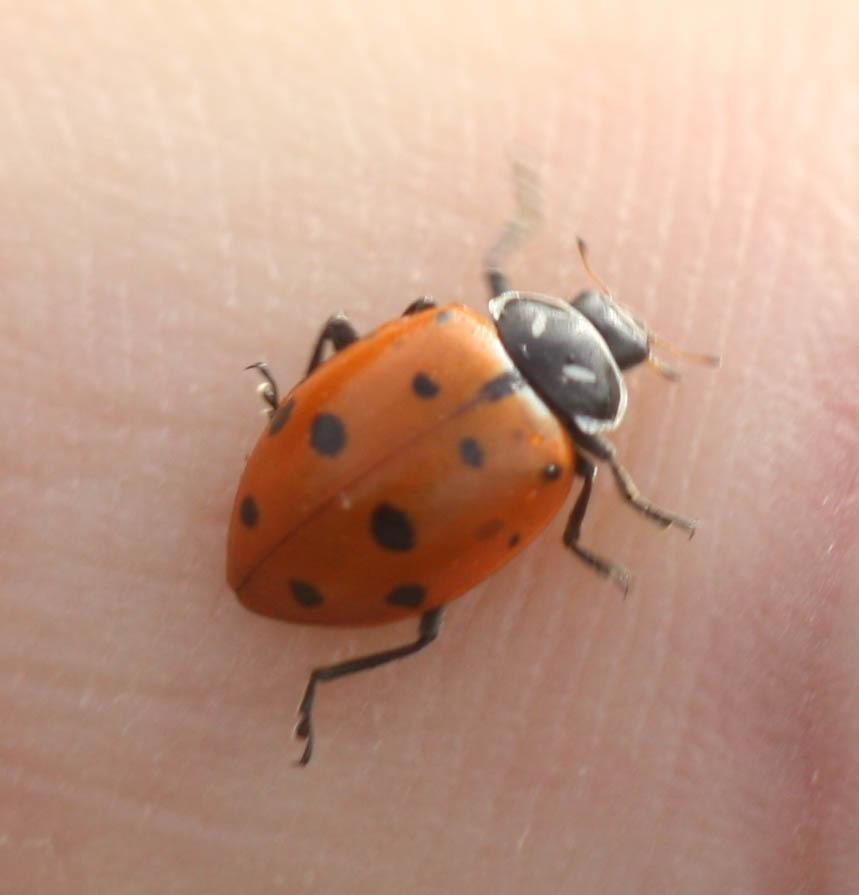ladybug: (219, 231, 731, 776)
